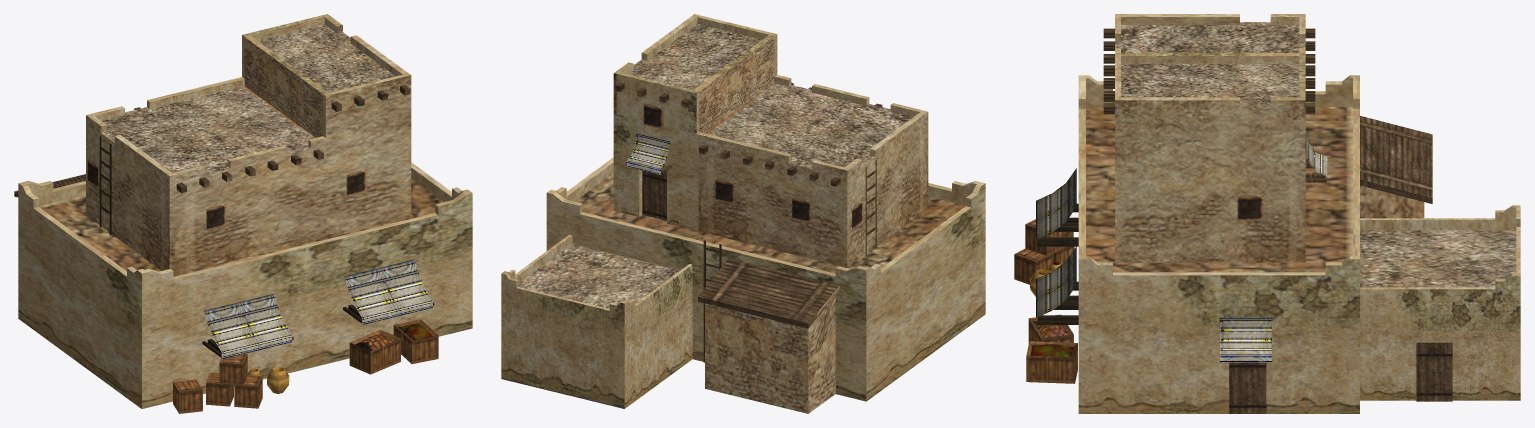
The model's file is s_persians_alt_building_01.glb.
The picture shows the model from 3 angles, left to right: view 1: azimuth 30°, elevation 25°; view 2: azimuth 150°, elevation 25°; view 3: azimuth 270°, elevation 25°; orthographic projection. The views are drawn at different scales.
Parts seen in each view (by area): view 1: s_persians_alt_building_01_part0, s_persians_alt_building_01_part1; view 2: s_persians_alt_building_01_part0; view 3: s_persians_alt_building_01_part0, s_persians_alt_building_01_part1.
Part boxes in pixels (<box>): s_persians_alt_building_01_part0: <box>14,14,472,408</box>; s_persians_alt_building_01_part1: <box>173,259,438,413</box>; s_persians_alt_building_01_part0: <box>501,14,985,413</box>; s_persians_alt_building_01_part0: <box>1078,14,1520,413</box>; s_persians_alt_building_01_part1: <box>1014,168,1078,383</box>.
Size of the model in its own units: 5.19 by 3.61 by 5.74.
1 material, 1 textured.
